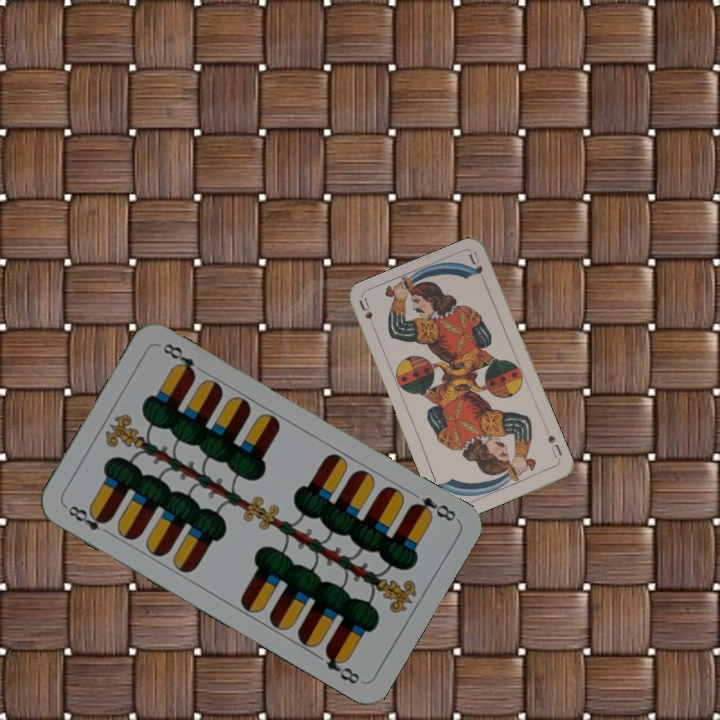E8: (61, 501, 114, 538), (406, 493, 459, 524)
SU: (355, 295, 379, 335), (543, 431, 565, 464)
